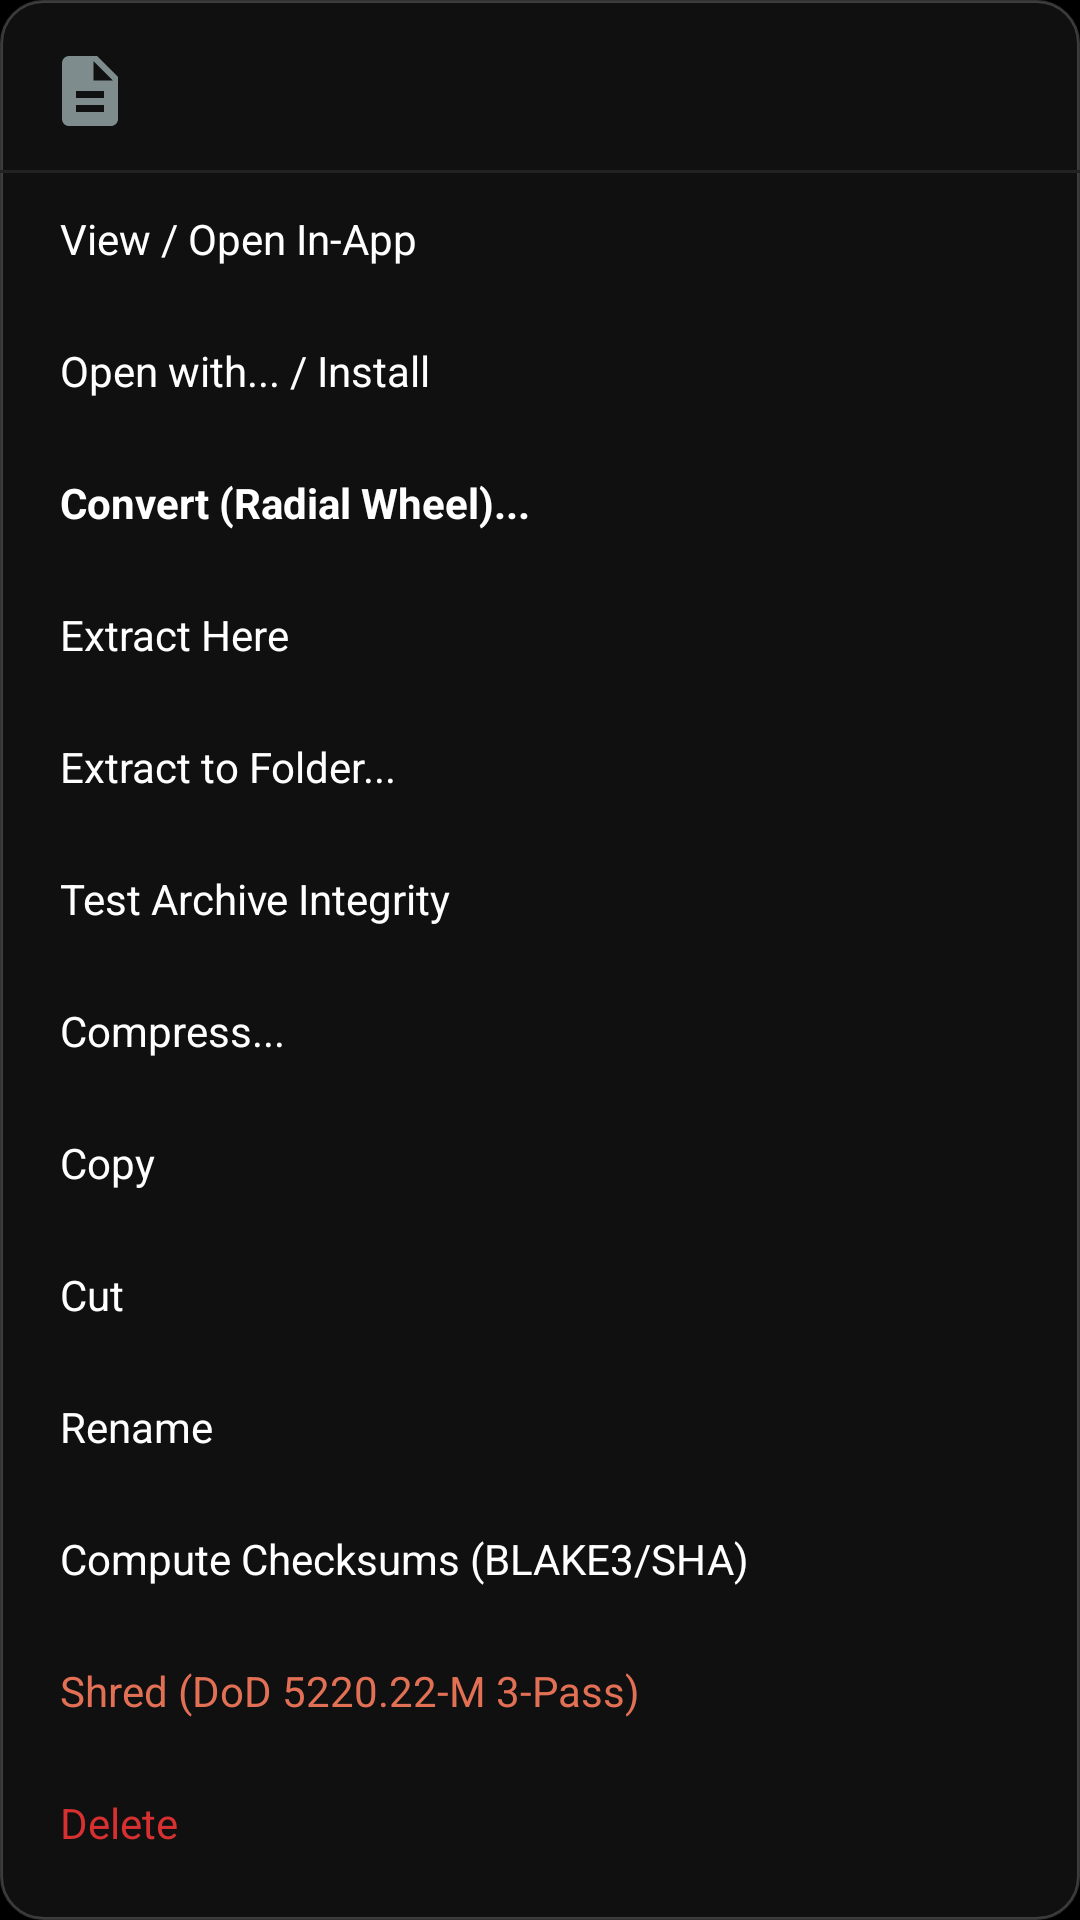

Locate icon controls on the screen. Image size 1080*1920, boxes as (x1, y1, x2, y2).
file: (62, 56, 118, 126)
